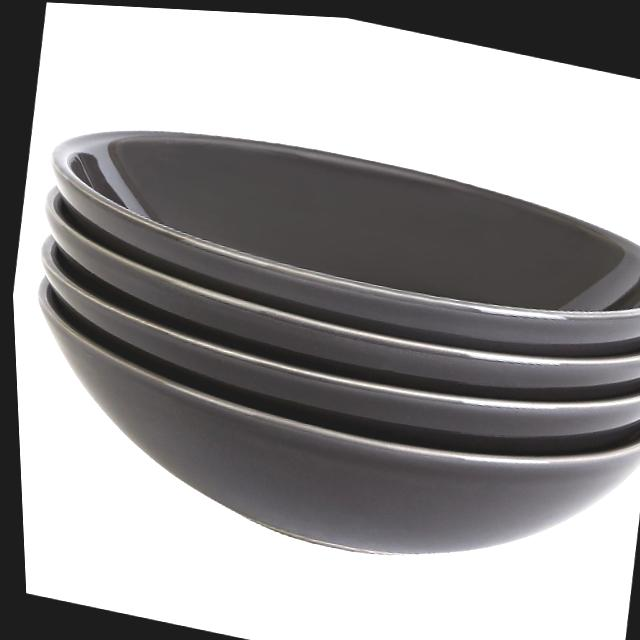Bowl: (39, 280, 639, 554), (52, 131, 639, 357), (41, 237, 639, 455), (45, 188, 639, 401)
